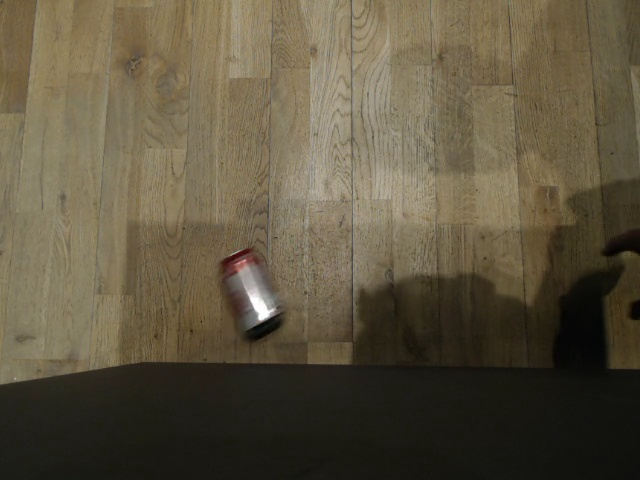cola: (215, 247, 287, 331)
